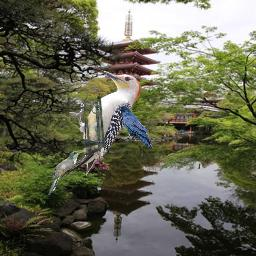Crow: (115, 105, 155, 148)
Cuckoo: (48, 151, 82, 195)
Woodpecker: (59, 68, 143, 181)
